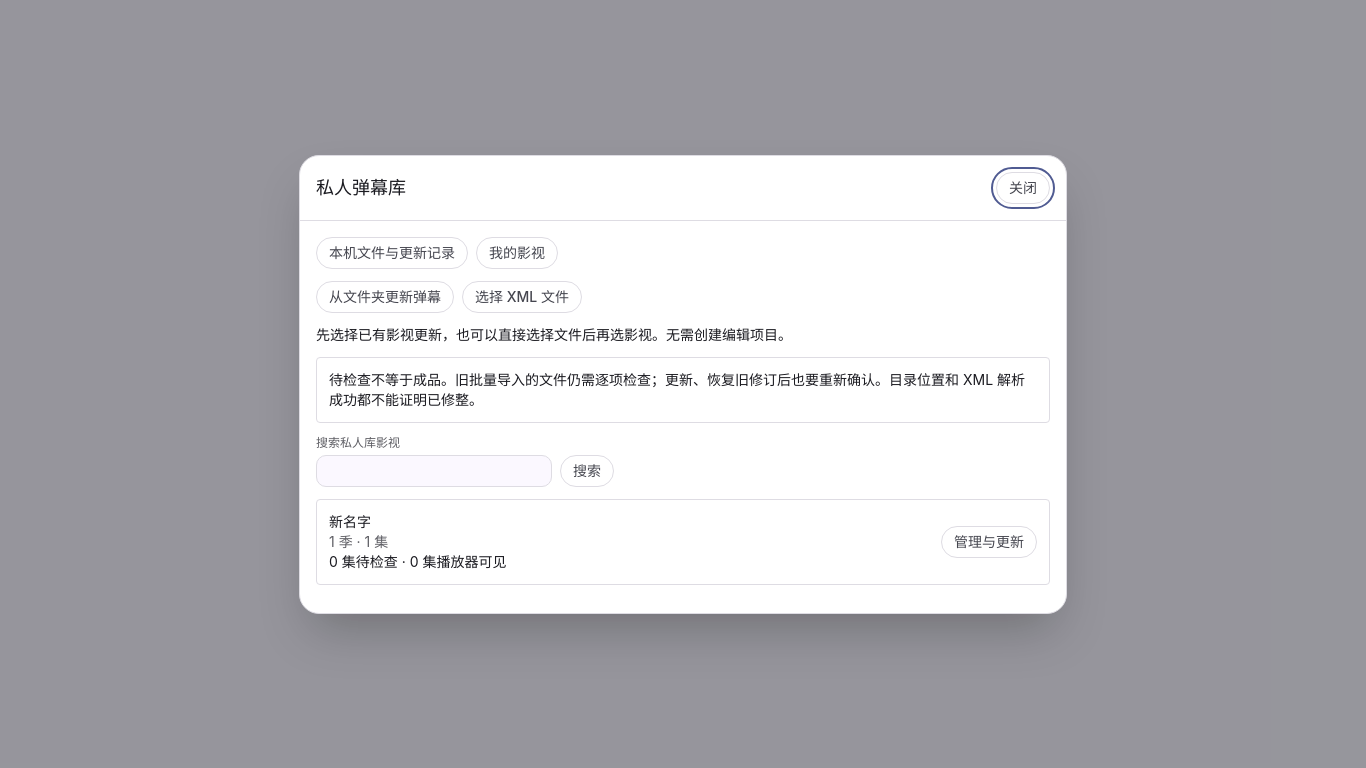
shows publication records and respects cloud restore capability true
The width and height of the screenshot is (1366, 768).
Check: the text "新名字" is shown, box x1=329 y1=512 x2=371 y2=530
Click the button "管理与更新". click: (989, 542)
box: x1=941 y1=526 x2=1037 y2=558
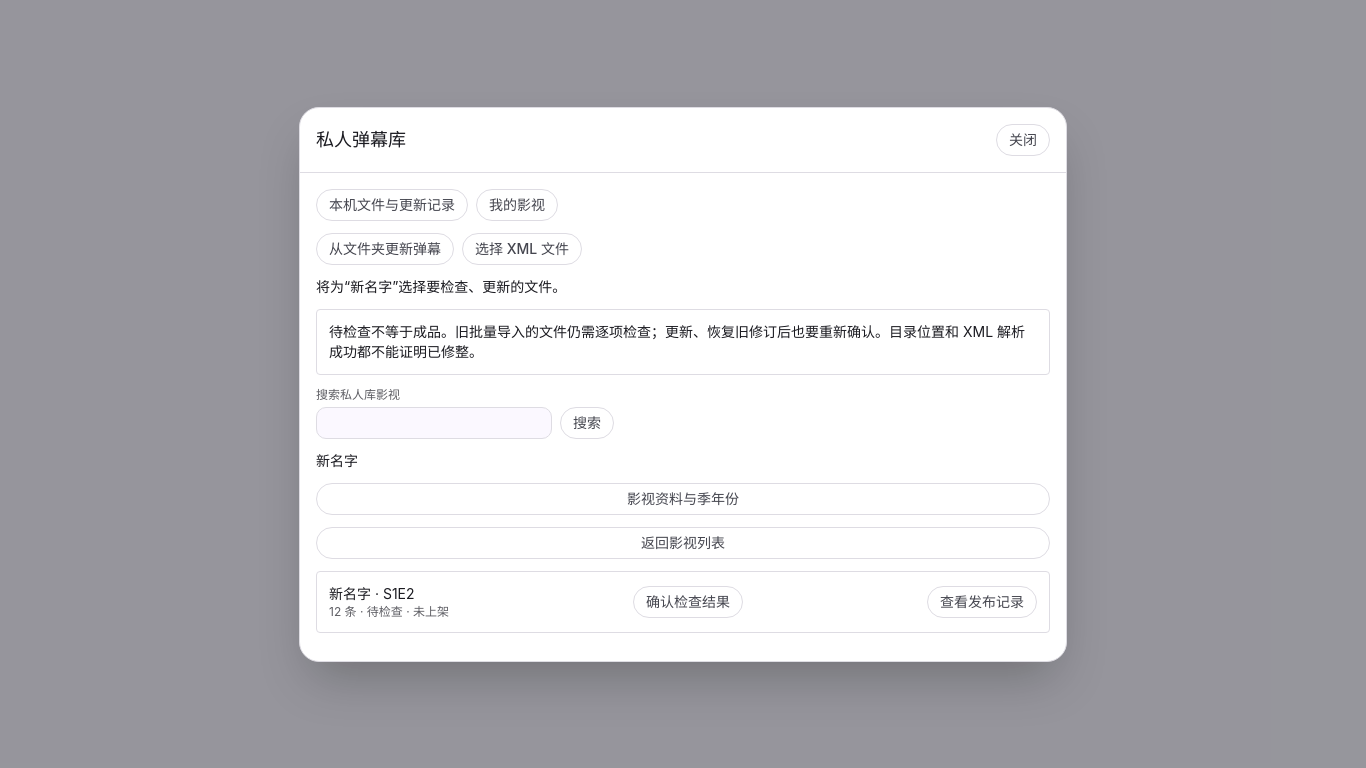
Check: the button "查看发布记录" is shown
Click the button "查看发布记录". click: (982, 602)
box: x1=927 y1=586 x2=1037 y2=618
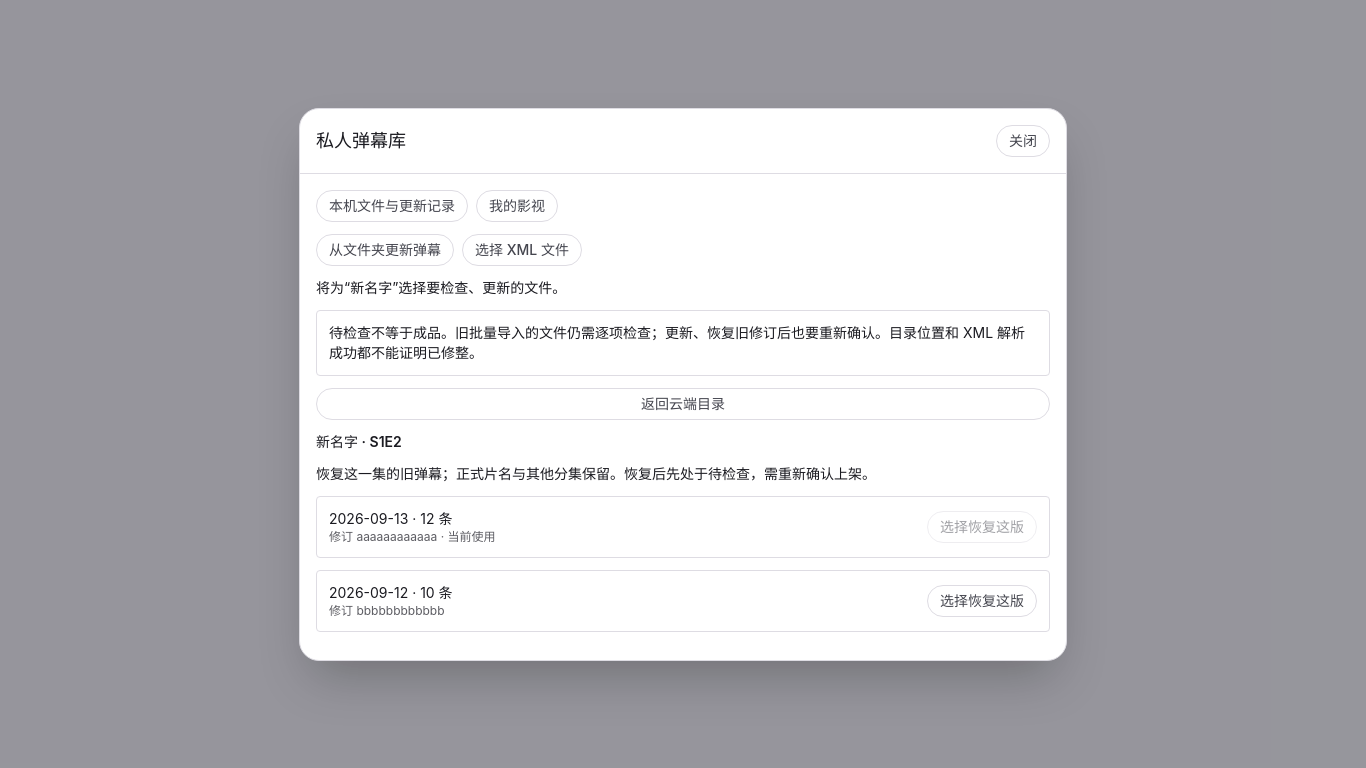
Check: the text "修订 bbbbbbbbbbbb" is shown, box x1=329 y1=602 x2=453 y2=618
Check: the button "选择恢复这版" in the row of "· 当前使用" is disabled, box x1=927 y1=510 x2=1037 y2=542
Click the button "选择恢复这版" in the row of "bbbbbbbbbbbb". click: (982, 600)
box: x1=927 y1=584 x2=1037 y2=616
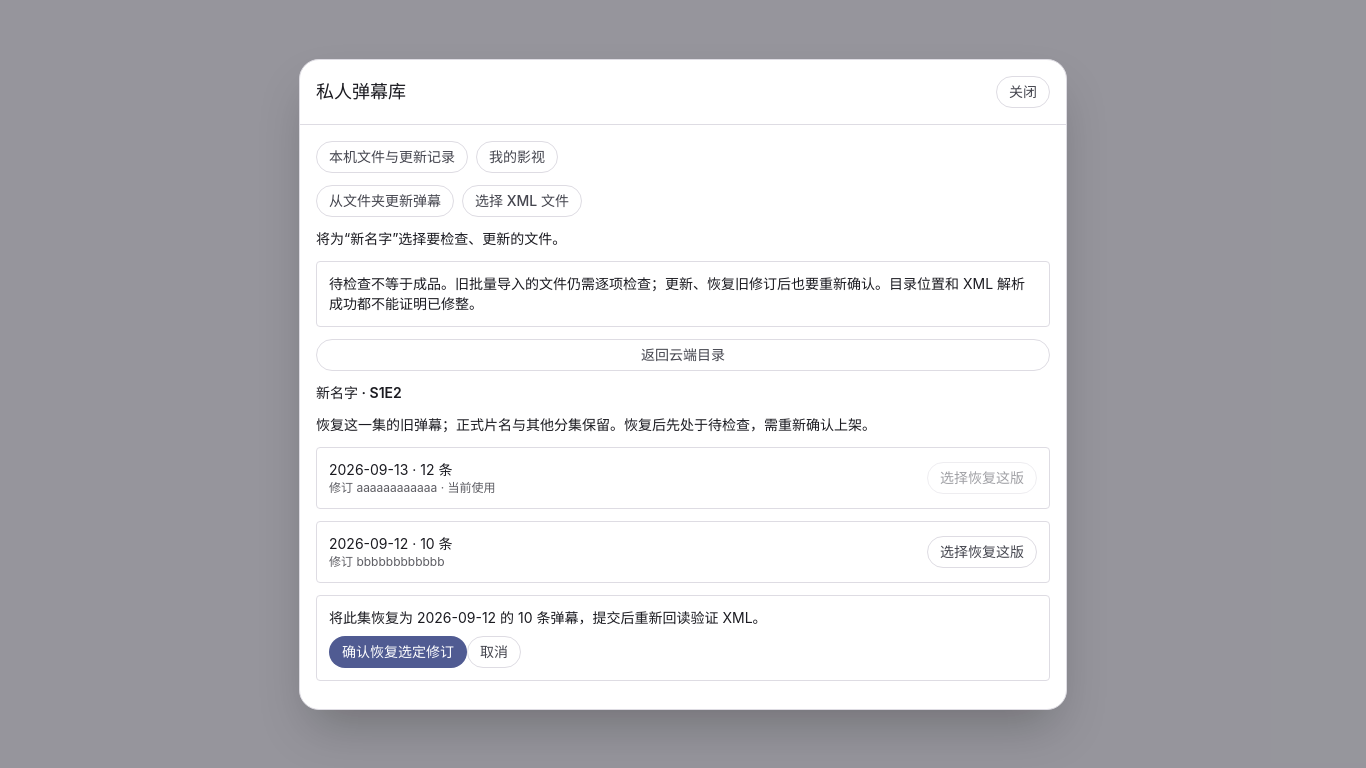
Click the button "确认恢复选定修订". click: (398, 652)
box: x1=329 y1=636 x2=467 y2=668
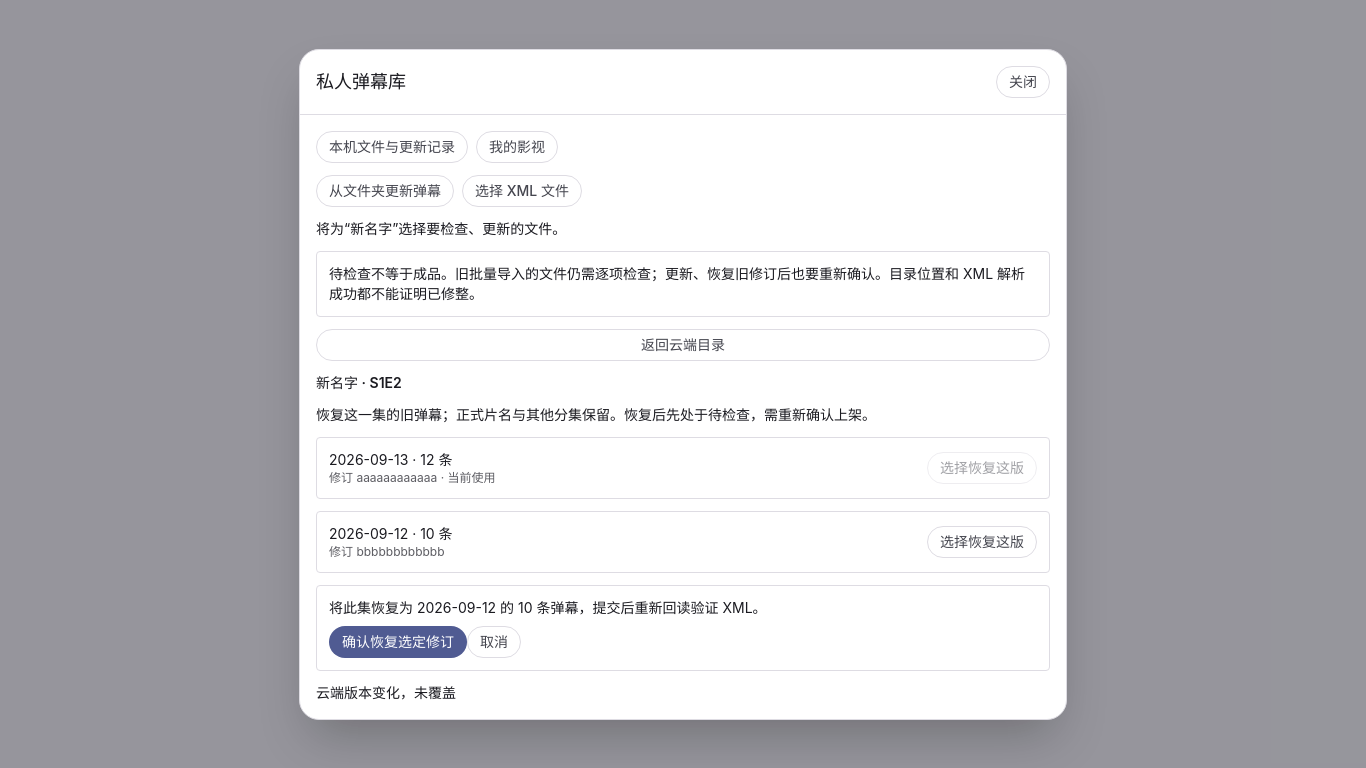
Check: the text "云端版本变化，未覆盖" is shown, box x1=316 y1=684 x2=456 y2=700
